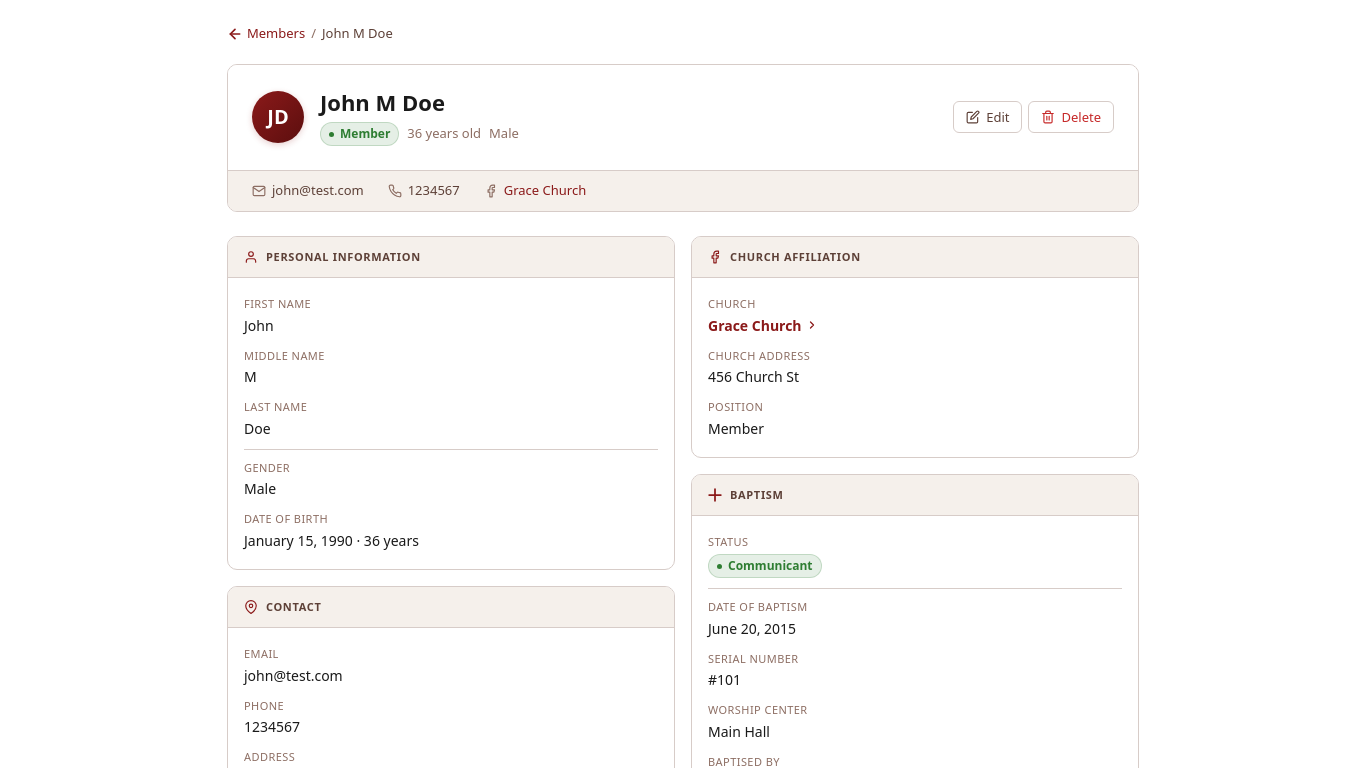
Test case: PersonDetail › opens edit form
The image size is (1366, 768).
Click the button "Edit": (988,117) [953,101,1022,133]
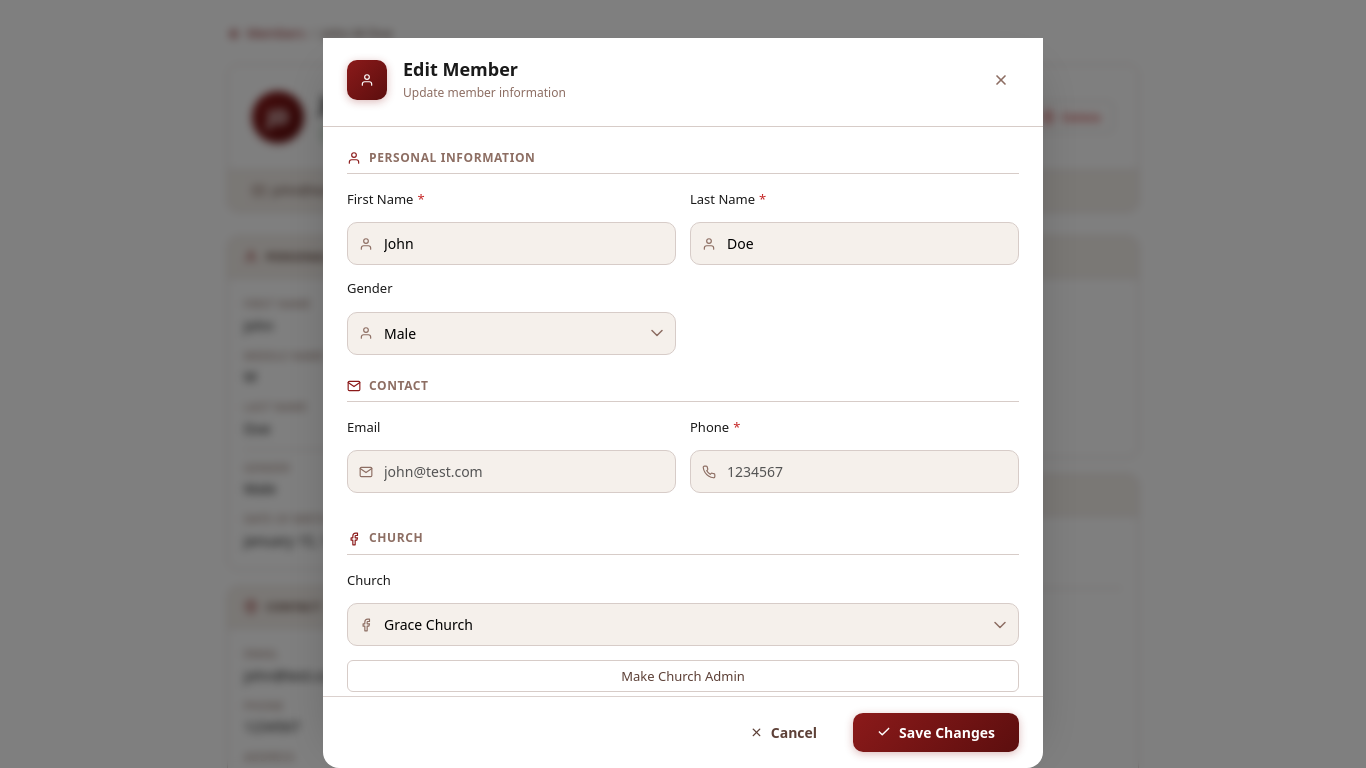
expect the heading "Edit Member" is shown: met, box [403,57,518,81]
